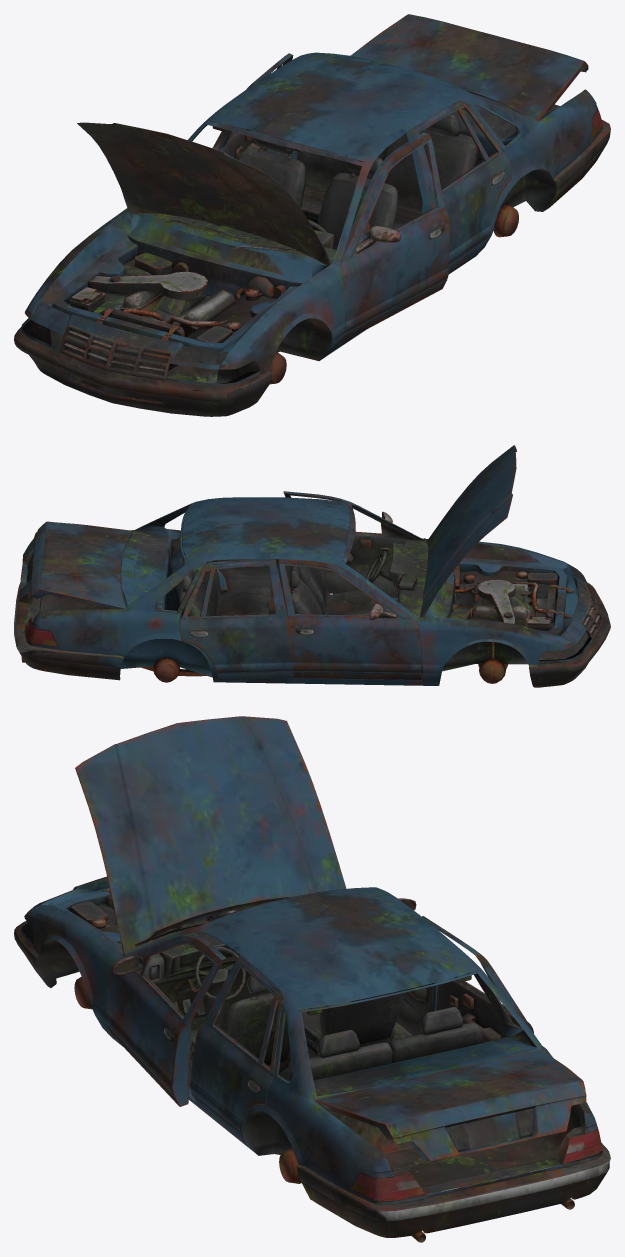
The model's file is abandoned_car.glb.
The picture shows the model from 3 angles, top to bottom: view 1: azimuth 30°, elevation 25°; view 2: azimuth 150°, elevation 25°; view 3: azimuth 270°, elevation 25°; orthographic projection. The views are drawn at different scales.
Parts seen in each view (by area): view 1: Object_4, Object_10, Object_12, Object_30, Object_22, Object_16, Object_28, Object_32, Object_18, Object_6, Object_14, Object_26; view 2: Object_4, Object_24, Object_26, Object_12, Object_10, Object_22, Object_16, Object_30, Object_6, Object_18, Object_28, Object_14 (+2 smaller); view 3: Object_4, Object_10, Object_12, Object_22, Object_6, Object_30, Object_32, Object_26, Object_18, Object_8, Object_24, Object_14 (+2 smaller).
Part boxes in pixels (x1,y1,x2,y2): Object_4: [21, 52, 602, 416]; Object_10: [77, 122, 331, 266]; Object_12: [350, 14, 588, 121]; Object_30: [339, 132, 449, 343]; Object_22: [238, 114, 479, 250]; Object_16: [69, 252, 286, 342]; Object_28: [14, 323, 271, 416]; Object_32: [410, 101, 511, 270]; Object_18: [144, 213, 336, 261]; Object_6: [545, 104, 610, 210]; Object_14: [168, 203, 518, 384]; Object_26: [224, 53, 293, 159]; Object_4: [25, 497, 603, 685]; Object_24: [278, 559, 422, 679]; Object_26: [179, 559, 293, 680]; Object_12: [18, 521, 132, 608]; Object_10: [420, 445, 516, 617]; Object_22: [179, 557, 374, 616]; Object_16: [449, 566, 557, 631]; Object_30: [283, 491, 423, 597]; Object_6: [14, 583, 124, 680]; Object_18: [380, 540, 428, 616]; Object_28: [528, 582, 610, 687]; Object_14: [21, 598, 508, 683]; Object_4: [20, 876, 602, 1233]; Object_10: [75, 716, 346, 954]; Object_12: [314, 1050, 586, 1161]; Object_22: [190, 975, 483, 1080]; Object_6: [296, 1143, 610, 1237]; Object_30: [106, 935, 226, 1106]; Object_32: [190, 955, 285, 1142]; Object_26: [421, 916, 533, 1042]; Object_18: [129, 926, 262, 1015]; Object_8: [350, 1126, 602, 1201]; Object_24: [396, 898, 433, 1035]; Object_14: [74, 976, 574, 1242].
Size of the model in its own units: 50.7 by 17.74 by 37.08.
1 material, 1 textured.
